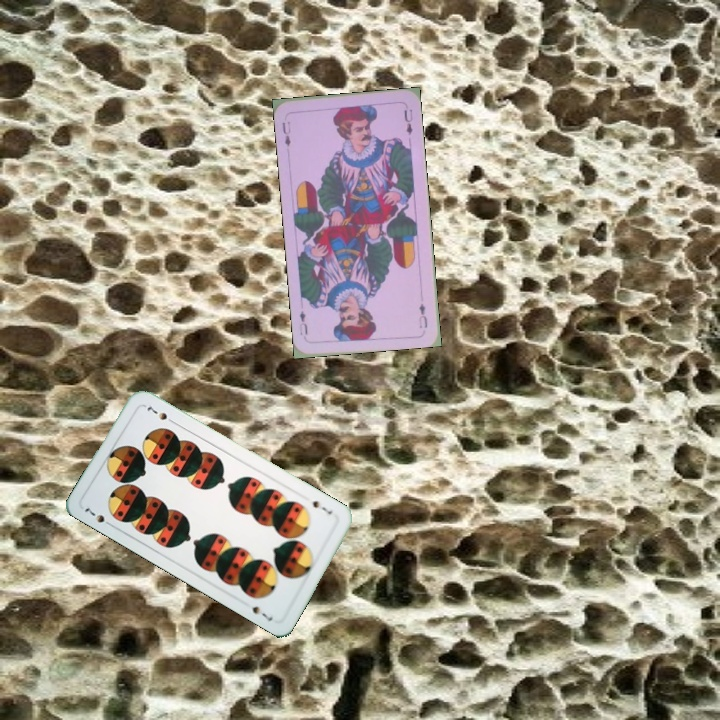EU: (278, 117, 293, 149), (415, 299, 430, 331)
S7: (80, 504, 116, 530), (308, 496, 335, 517)
